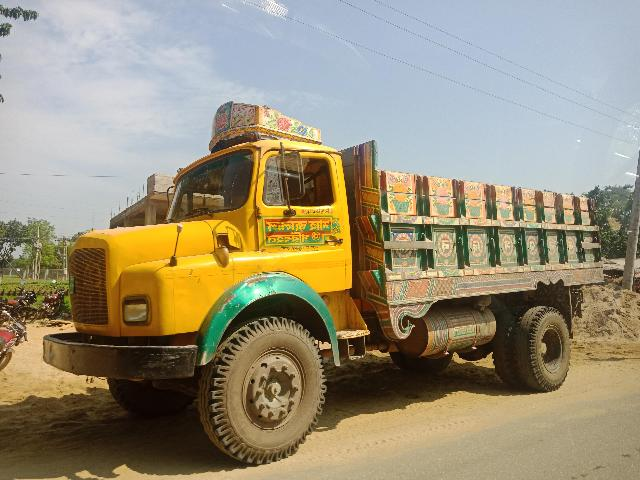motorcycle: (2, 286, 39, 317), (35, 283, 68, 317)
truck: (60, 98, 611, 457)
